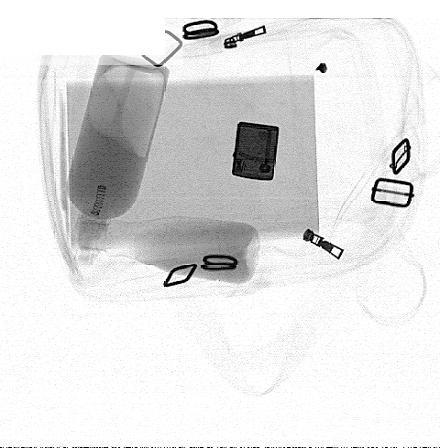Lighter: (231, 121, 280, 182)
